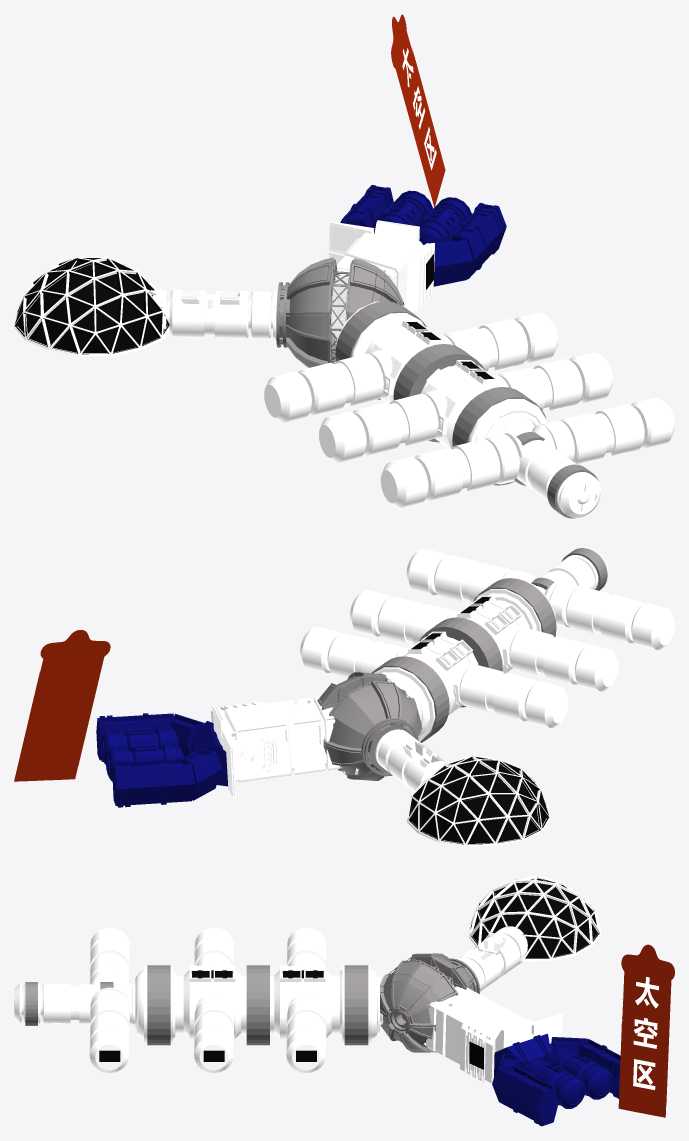
The picture shows the model from 3 angles, top to bottom: view 1: azimuth 30°, elevation 25°; view 2: azimuth 150°, elevation 25°; view 3: azimuth 270°, elevation 25°; orthographic projection. The views are drawn at different scales.
Parts seen in each view (by area): view 1: object 1, object 2, part65.007, part65.001, part65, part65.006, part65.004, part65.002, part65.003, part65.005, 贝塞尔曲线.017, 柱体.001 (+3 smaller); view 2: object 1, 贝塞尔曲线.017, object 2, part65.007, part65.001, part65, part65.006, part65.002, part65.003, part65.004, 柱体.001, 柱体.002 (+3 smaller); view 3: object 1, 贝塞尔曲线.017, object 2, part65.006, part65.005, part65.003, part65.002, part65.004, part65.007, 柱体.002, 柱体, 柱体.001 (+4 smaller).
Boxes of the visible parts, bbox=[...] form: object 1: bbox=[14, 185, 547, 484]; object 2: bbox=[15, 258, 169, 354]; part65.007: bbox=[380, 432, 523, 508]; part65.001: bbox=[264, 350, 392, 422]; part65: bbox=[319, 390, 447, 462]; part65.006: bbox=[532, 397, 674, 464]; part65.004: bbox=[151, 289, 277, 338]; part65.002: bbox=[492, 352, 612, 410]; part65.003: bbox=[437, 312, 558, 371]; part65.005: bbox=[499, 426, 601, 517]; 贝塞尔曲线.017: bbox=[391, 14, 445, 207]; 柱体.001: bbox=[393, 344, 484, 442]; object 1: bbox=[96, 578, 556, 846]; 贝塞尔曲线.017: bbox=[14, 630, 110, 781]; object 2: bbox=[408, 757, 549, 844]; part65.007: bbox=[544, 580, 674, 649]; part65.001: bbox=[452, 661, 568, 727]; part65: bbox=[501, 624, 618, 691]; part65.006: bbox=[406, 548, 535, 602]; part65.002: bbox=[350, 590, 458, 643]; part65.003: bbox=[300, 626, 408, 677]; part65.004: bbox=[375, 729, 447, 791]; 柱体.001: bbox=[419, 617, 502, 707]; 柱体.002: bbox=[371, 656, 449, 742]; object 1: bbox=[132, 875, 620, 1126]; 贝塞尔曲线.017: bbox=[618, 944, 674, 1117]; object 2: bbox=[470, 877, 599, 958]; part65.006: bbox=[89, 987, 129, 1072]; part65.005: bbox=[14, 983, 134, 1024]; part65.003: bbox=[286, 992, 326, 1072]; part65.002: bbox=[194, 992, 234, 1072]; part65.004: bbox=[458, 926, 527, 991]; part65.007: bbox=[89, 927, 129, 985]; 柱体.002: bbox=[344, 965, 368, 1045]; 柱体: bbox=[147, 965, 170, 1045]; 柱体.001: bbox=[246, 965, 269, 1045].
Size of the model in its own units: 9.06 by 3.67 by 12.31.
